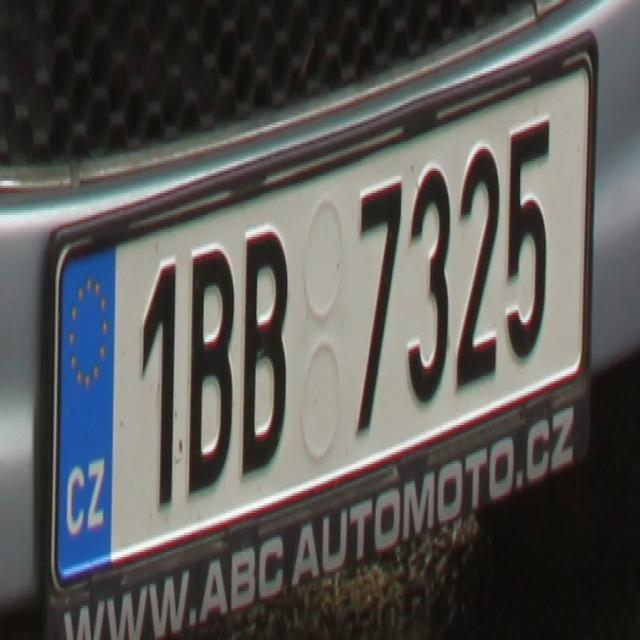1: (142, 256, 177, 510)
2: (456, 139, 499, 386)
3: (408, 157, 453, 406)
5: (506, 124, 550, 354)
7: (356, 173, 402, 434)
B: (186, 244, 232, 498), (241, 225, 287, 470)
